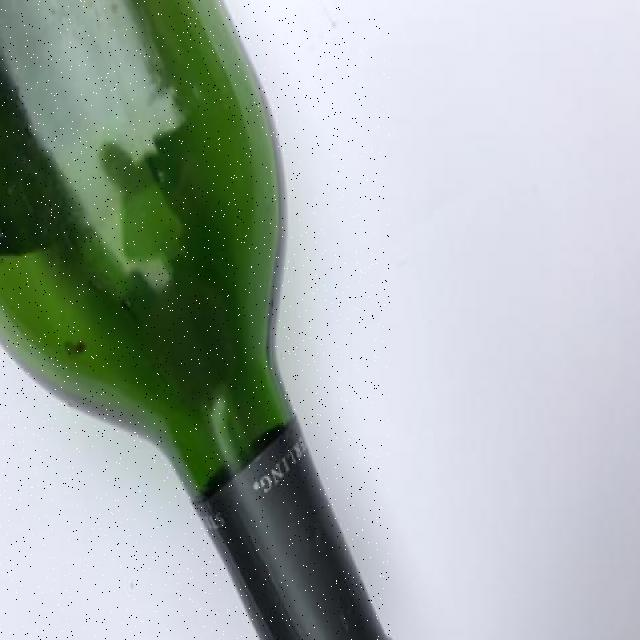glass: (0, 0, 390, 640)
